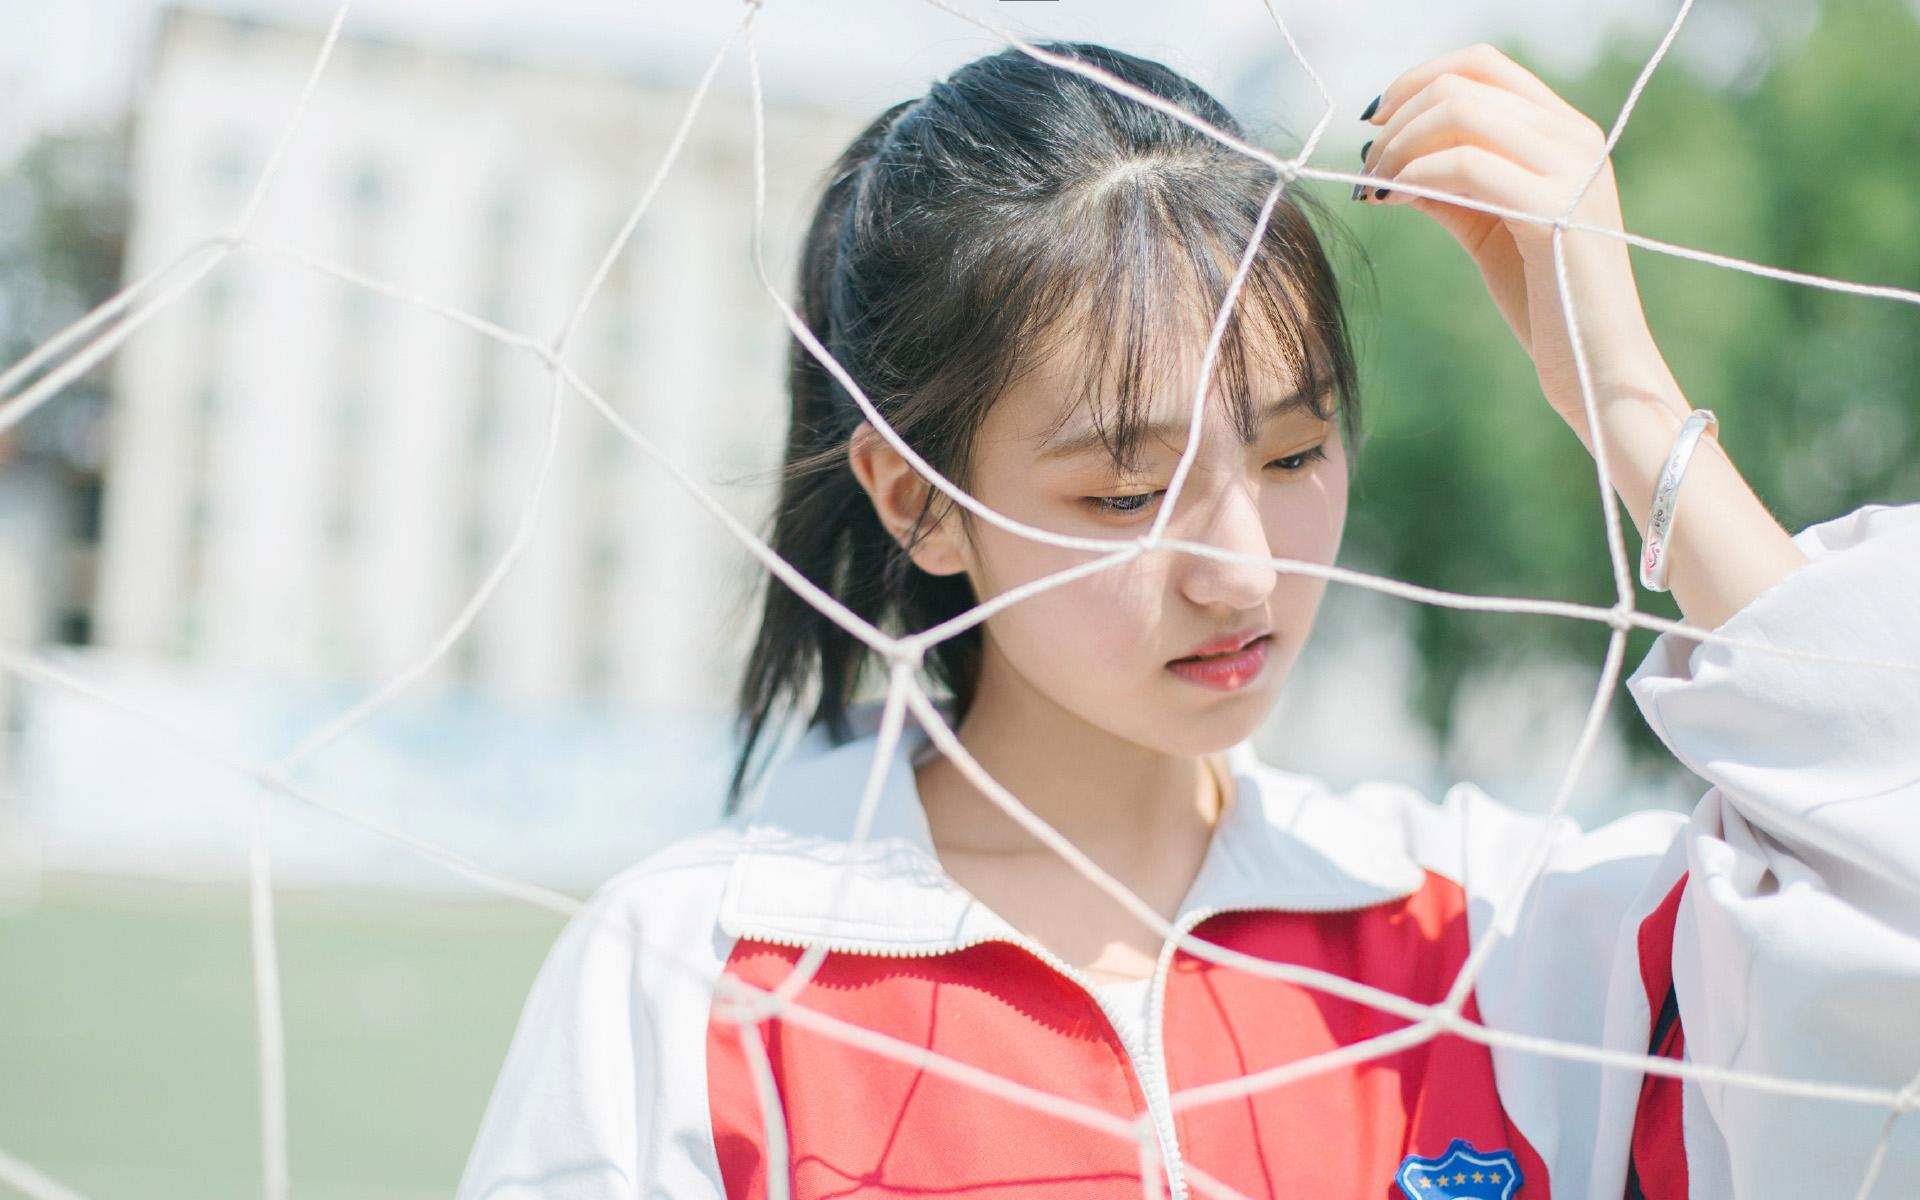person: (716, 131, 1595, 958)
